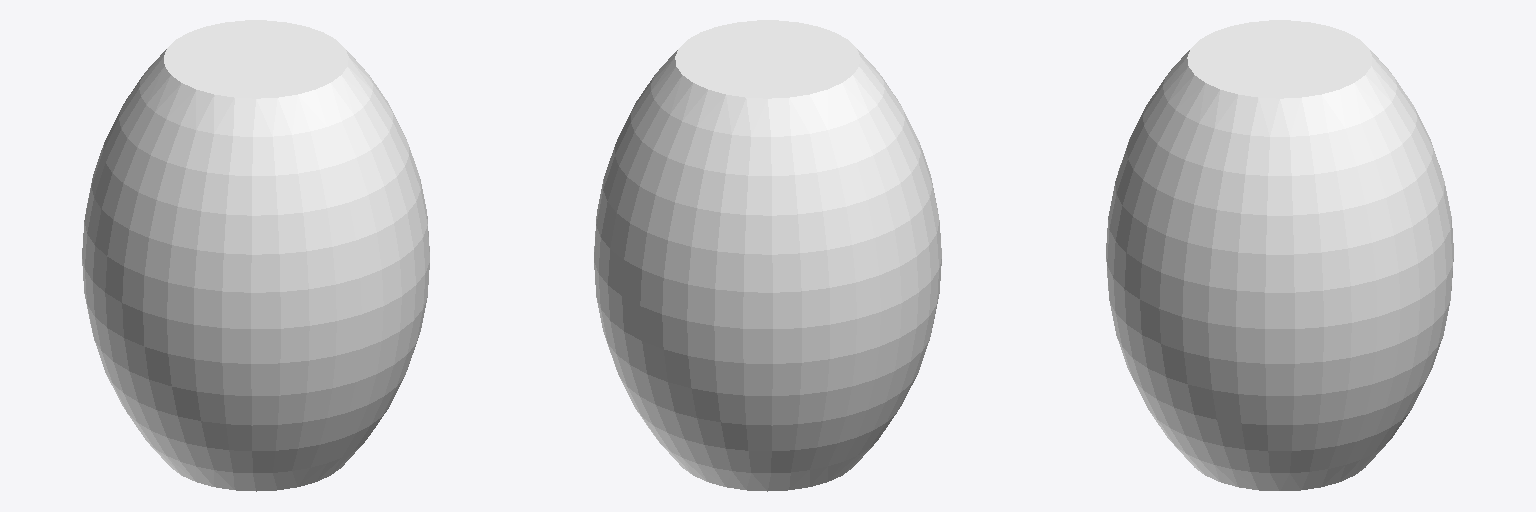
URDF robot description (vase.obj):
<robot name="vase.obj">
	<link name="_name">
		<visual>
			<origin xyz="-7.154970178761401e-09 1.508085019625239e-18 -0.07" rpy="0 0 0" />
			<geometry>
				<mesh filename="vase.obj" scale="0.001 0.001 0.001" />
			</geometry>
			<material name="texture">
				<color rgba="1.0 1.0 1.0 1.0" />
			</material>
		</visual>
		<collision>
			<geometry>
				<mesh filename="vase_vhacd.obj" scale="0.001 0.001 0.001" />
			</geometry>
		<origin xyz="-7.154970178761401e-09 1.508085019625239e-18 -0.07" rpy="0 0 0" /></collision>
		<inertial>
			<mass value="0.3" />
			<inertia ixx="0.6" ixy="0.0" ixz="0.0" iyy="0.5" iyz="-0.0" izz="0.08" />
		</inertial>
	</link>
</robot>

--- What the picture shows (computed from the rendered views, not written in the file) ---
Views: 3 orthographic renders of the robot side by side, from view 1: azimuth 30°, elevation 25°; view 2: azimuth 150°, elevation 25°; view 3: azimuth 270°, elevation 25°.
Model vase.obj with 1 links and 0 joints (none), rooted at _name, posed all joints at 0.
Visible links, largest first — view 1: _name; view 2: _name; view 3: _name.
Link boxes in pixels (bbox=[...]): _name: bbox=[82, 20, 429, 491]; _name: bbox=[594, 20, 941, 491]; _name: bbox=[1106, 20, 1453, 490].
Bounding box of the posed robot: 0.1124 × 0.1125 × 0.14 m (x, y, z).
Meshes: 1 distinct files referenced, 1 mesh visuals loaded (1 OBJ).